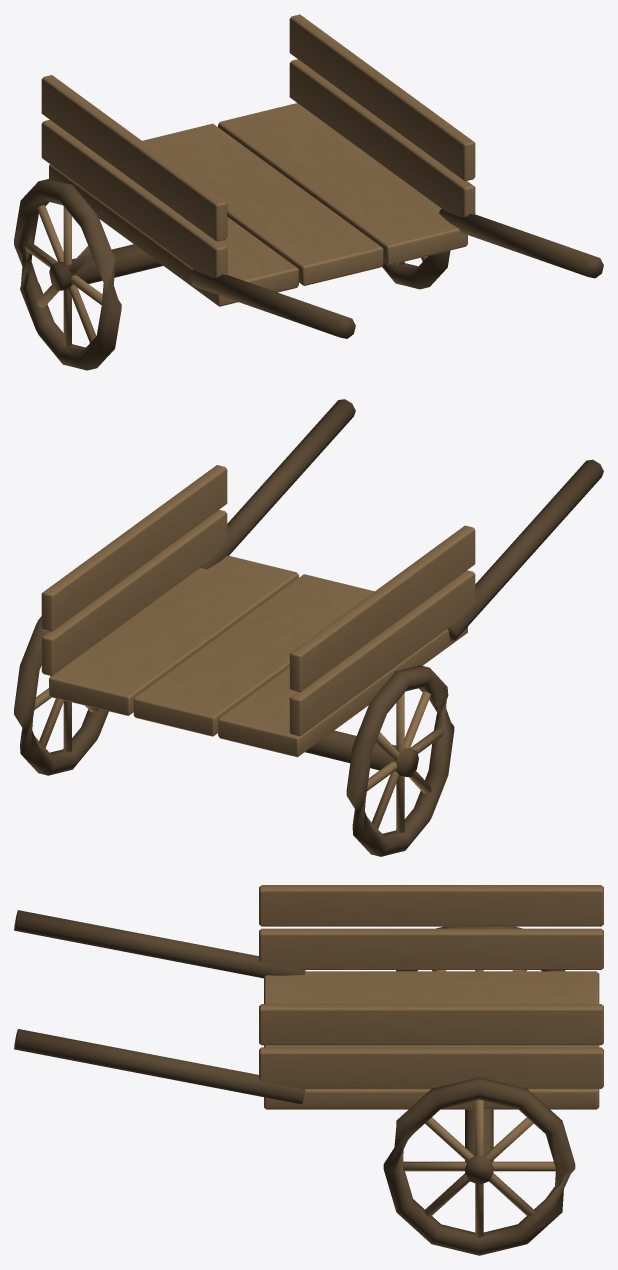
File: s10-handkarren.glb
The picture shows the model from 3 angles, top to bottom: view 1: azimuth 30°, elevation 25°; view 2: azimuth 150°, elevation 25°; view 3: azimuth 270°, elevation 25°; orthographic projection.
Parts seen in each view (by area): view 1: s10-handkarren; view 2: s10-handkarren; view 3: s10-handkarren.
Boxes of the visible parts, x1,y1,x2,y2 form: s10-handkarren: (14, 14, 603, 370); s10-handkarren: (14, 399, 603, 856); s10-handkarren: (14, 885, 603, 1255).
Bounding box in the file's own units: 1.26 × 0.7853 × 1.85.
Materials: 1 (1 with a texture image).
